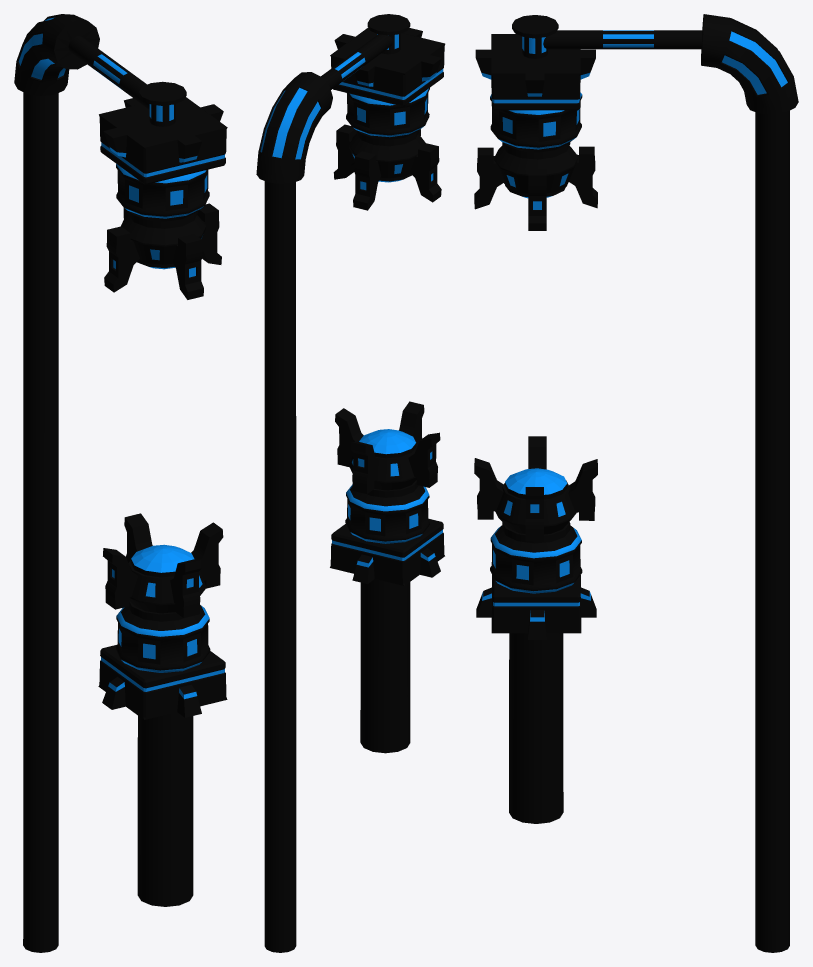
Rendered from Laser upside down.FBX.
The picture shows the model from 3 angles, left to right: view 1: azimuth 30°, elevation 25°; view 2: azimuth 150°, elevation 25°; view 3: azimuth 270°, elevation 25°; orthographic projection. The views are drawn at different scales.
Parts seen in each view (by area): view 1: laser upside down, Cylinder103; view 2: laser upside down, Cylinder103; view 3: laser upside down, Cylinder103.
Boxes of the visible parts, x1=… form: laser upside down: x1=14, y1=14, x2=227, y2=952; Cylinder103: x1=98, y1=513, x2=227, y2=906; laser upside down: x1=256, y1=14, x2=445, y2=952; Cylinder103: x1=330, y1=401, x2=444, y2=753; laser upside down: x1=474, y1=14, x2=798, y2=952; Cylinder103: x1=474, y1=436, x2=597, y2=823.
Size of the model in its own units: 153 by 1256 by 398.
